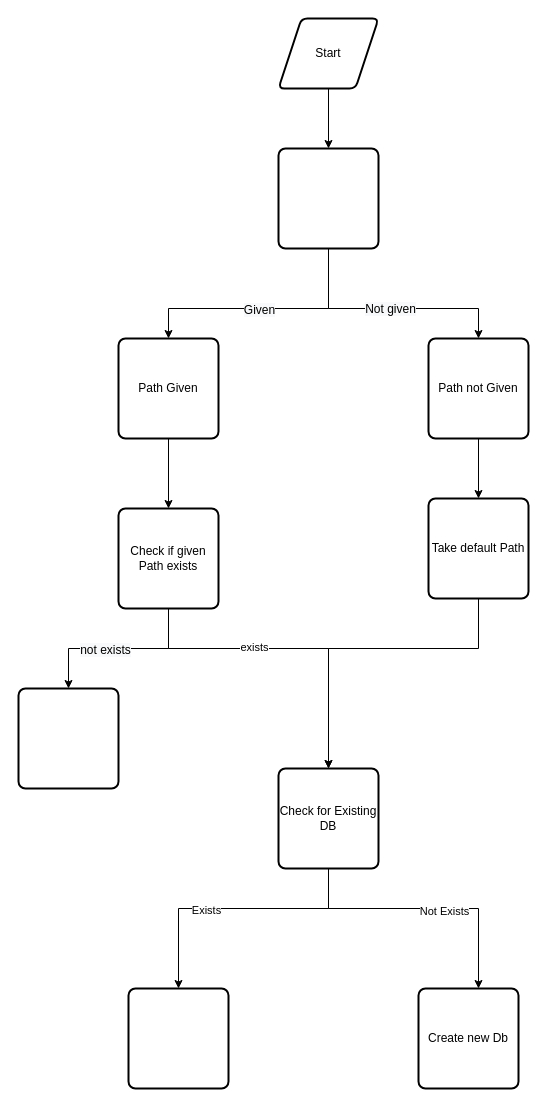
Image size: 546x1106. Some labels were removed from this diagram. Here are the shapes that lost their labels. From the top down, the centre of each, then its label:
pixel 328 198: Check for Path
pixel 68 738: Show error Message
pixel 178 1038: Read the Existing DB
